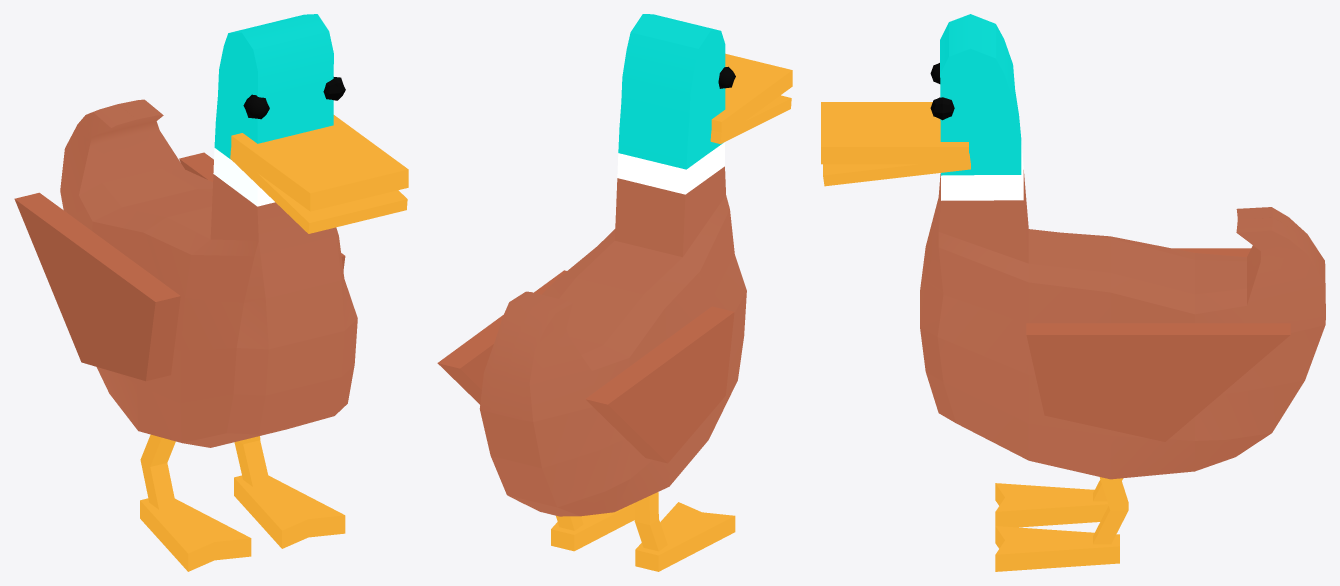
The model's file is duck-v01.fbx.
The picture shows the model from 3 angles, left to right: view 1: azimuth 30°, elevation 25°; view 2: azimuth 150°, elevation 25°; view 3: azimuth 270°, elevation 25°; orthographic projection. The views are drawn at different scales.
Parts seen in each view (by area): view 1: BODY, R_WING, BILL_TOP, R_FOOT, L_FOOT, BILL_BOTTOM, R_LEG, L_LEG, L_WING; view 2: BODY, R_WING, R_FOOT, BILL_TOP, L_WING, L_FOOT, R_LEG, BILL_BOTTOM; view 3: BODY, L_WING, BILL_TOP, L_FOOT, R_FOOT, BILL_BOTTOM, L_LEG.
Boxes of the visible parts, x1,y1,x2,y2 form: BODY: [60, 14, 357, 447]; R_WING: [14, 192, 180, 381]; BILL_TOP: [231, 115, 408, 211]; R_FOOT: [140, 498, 251, 571]; L_FOOT: [234, 475, 345, 548]; BILL_BOTTOM: [230, 148, 407, 233]; R_LEG: [140, 434, 175, 509]; L_LEG: [234, 436, 269, 486]; L_WING: [179, 152, 345, 271]; BODY: [479, 14, 746, 516]; R_WING: [585, 306, 734, 463]; R_FOOT: [635, 502, 735, 571]; BILL_TOP: [711, 53, 792, 132]; L_WING: [437, 270, 566, 404]; L_FOOT: [551, 503, 634, 551]; R_LEG: [634, 492, 667, 551]; BILL_BOTTOM: [710, 95, 791, 143]; BODY: [920, 14, 1325, 479]; L_WING: [1026, 323, 1290, 441]; BILL_TOP: [821, 102, 968, 164]; L_FOOT: [995, 526, 1119, 571]; R_FOOT: [995, 483, 1108, 527]; BILL_BOTTOM: [823, 153, 970, 186]; L_LEG: [1093, 477, 1128, 544].
Size of the model in its own units: 1.02 by 2.78 by 2.52.
